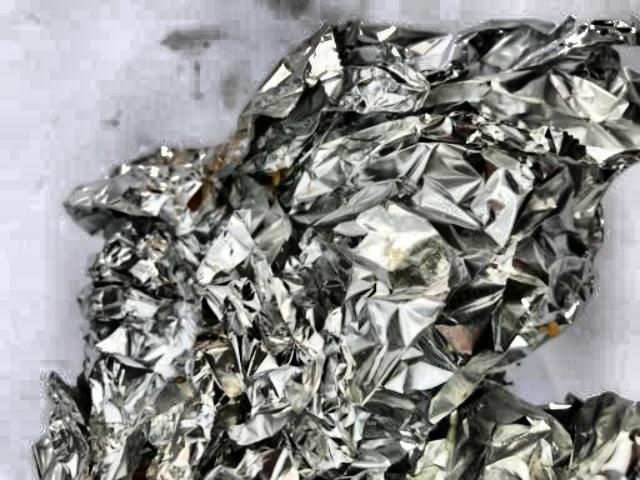Almennt: (17, 11, 640, 480)
